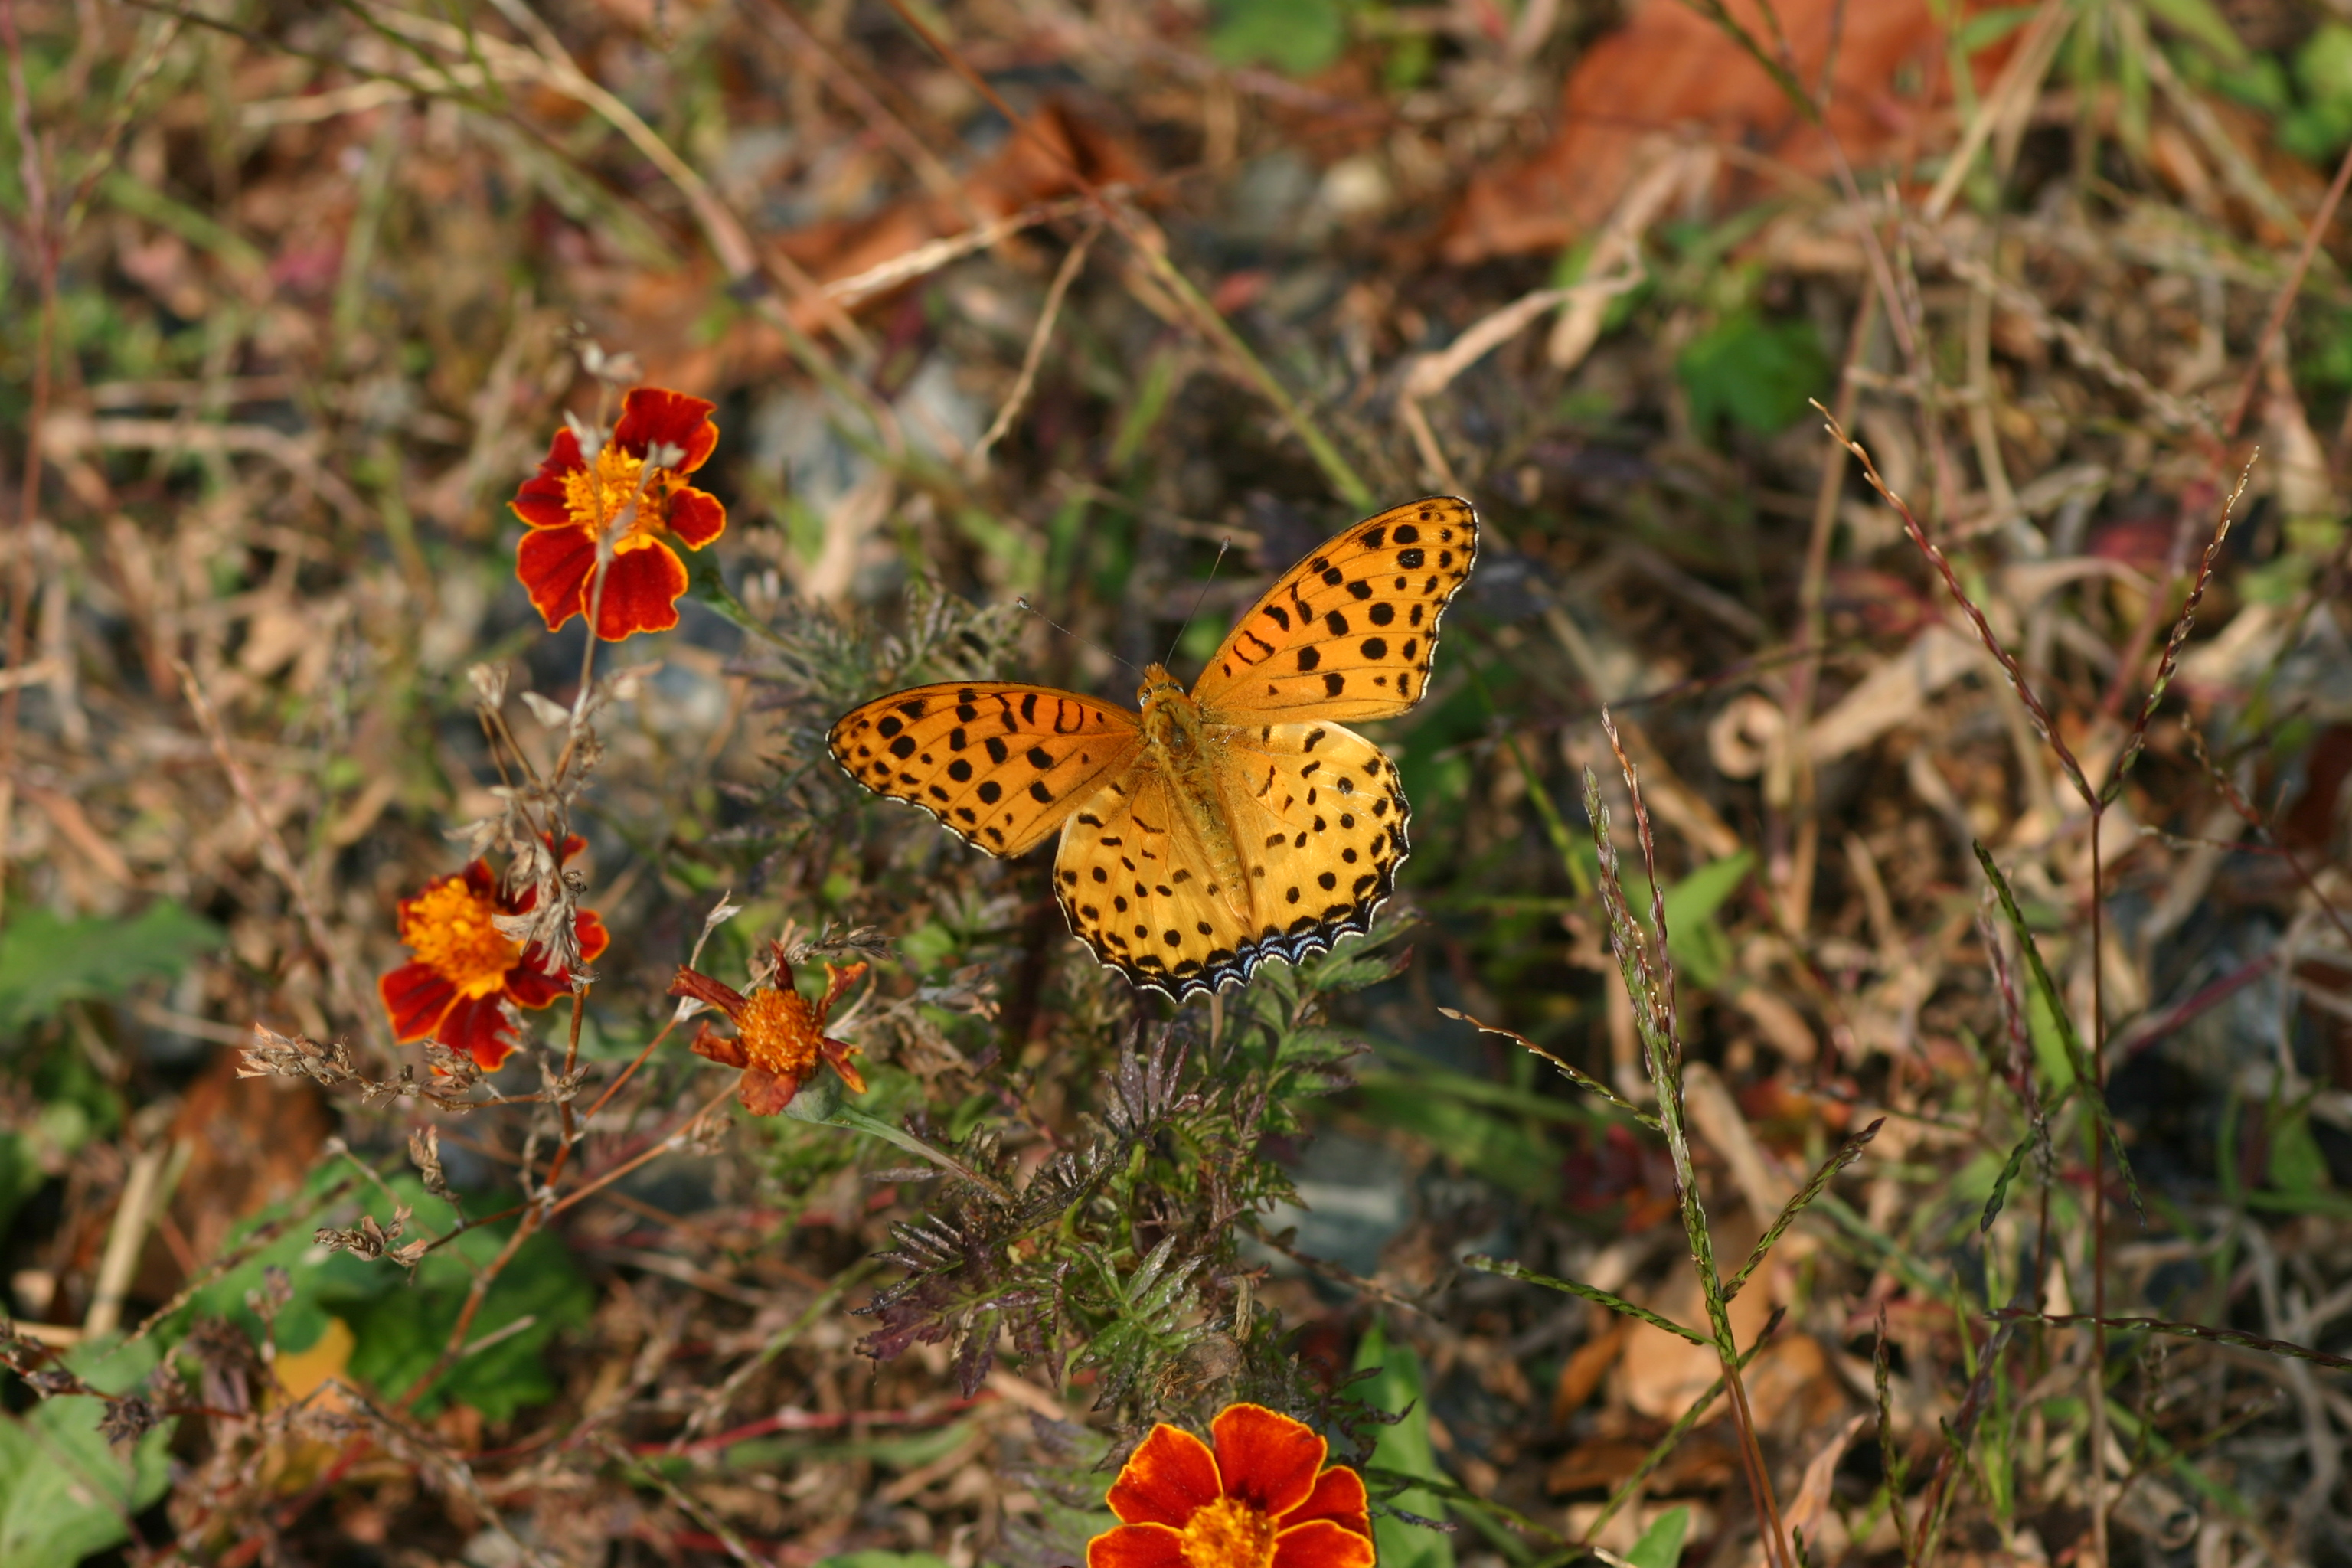Argyreus hyperbius: (807, 485, 1493, 1013)
butterfly: (808, 486, 1494, 1015)
